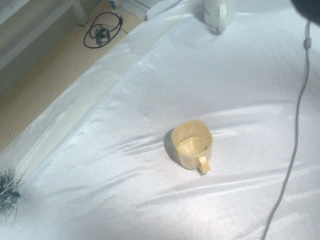cup: (166, 117, 215, 175), (202, 1, 234, 37)
